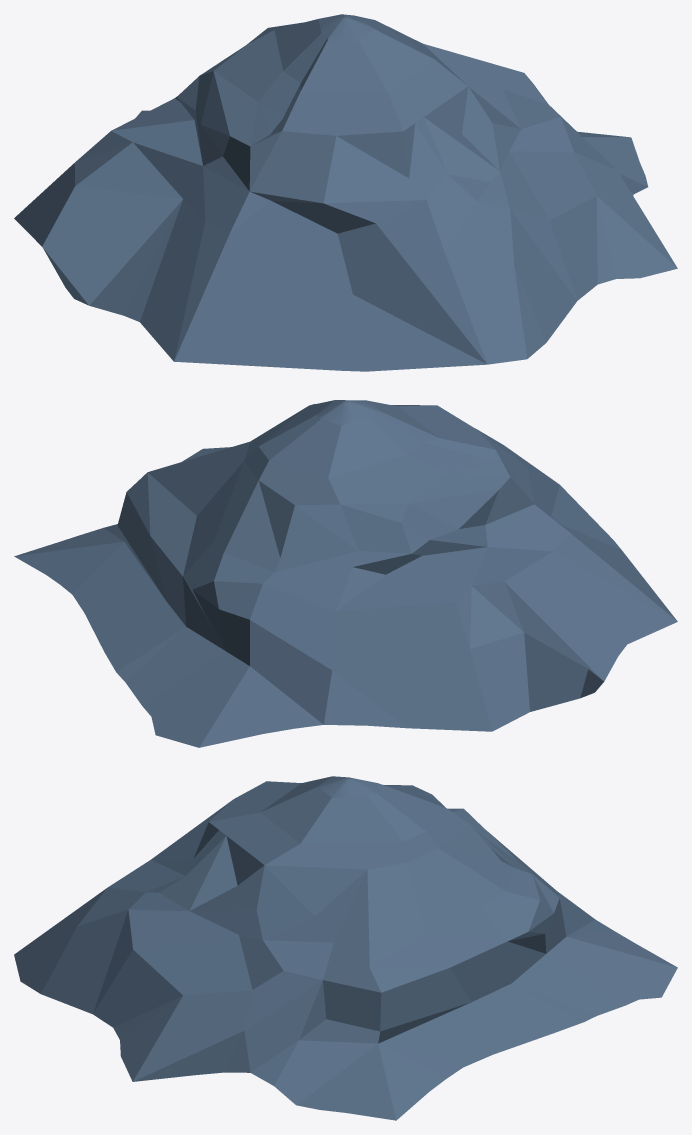
File: monte2.fbx
The picture shows the model from 3 angles, top to bottom: view 1: azimuth 30°, elevation 25°; view 2: azimuth 150°, elevation 25°; view 3: azimuth 270°, elevation 25°; orthographic projection. The views are drawn at different scales.
Parts seen in each view (by area): view 1: m2; view 2: m2; view 3: m2.
Part boxes in pixels (x1=…): m2: x1=14, y1=14, x2=677, y2=371; m2: x1=14, y1=400, x2=677, y2=747; m2: x1=14, y1=776, x2=677, y2=1120.
Bounding box in the file's own units: 26.46 × 9.68 × 27.84.
